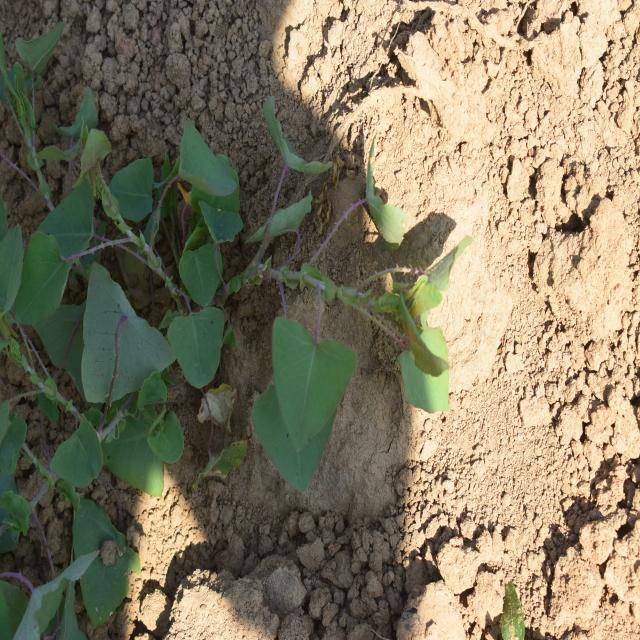Asiatic_Smartweed: (260, 115, 452, 499), (31, 128, 243, 439)
